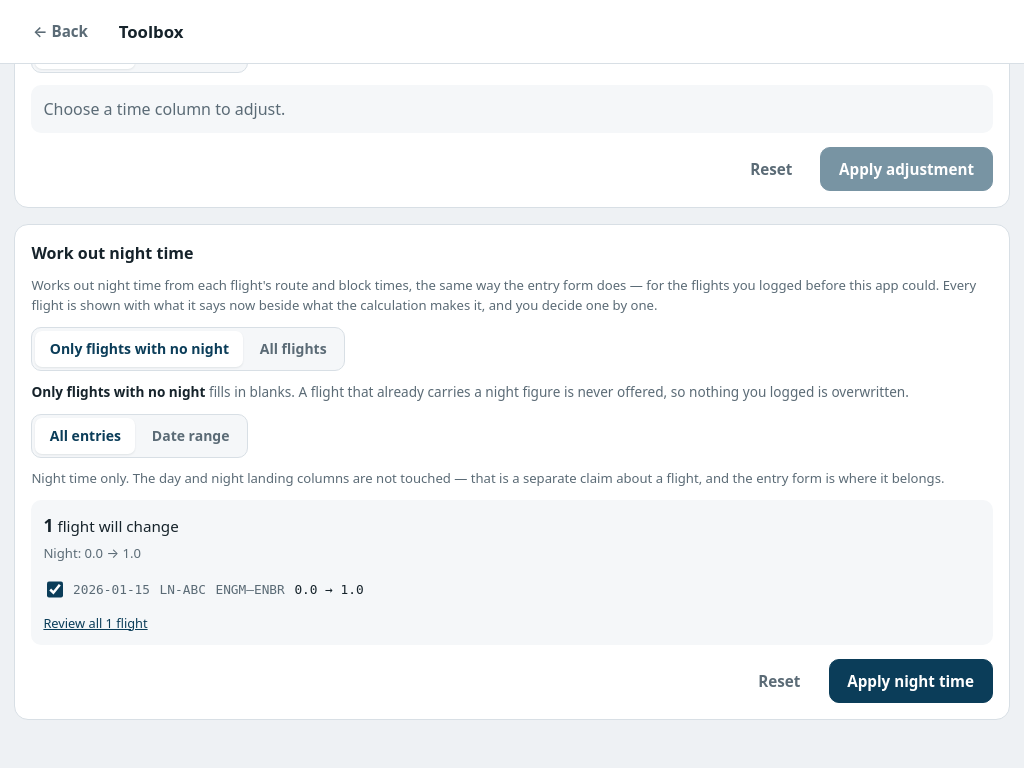
it: keeping what was logged › will not run once everything is unticked
(page scrolled)
Click the checkbox labelled "2026-01-15 LN-ABC ENGM–ENBR 0.0 → 1.0" at (55, 590), box left=47, top=581, right=63, bottom=598
(page scrolled)
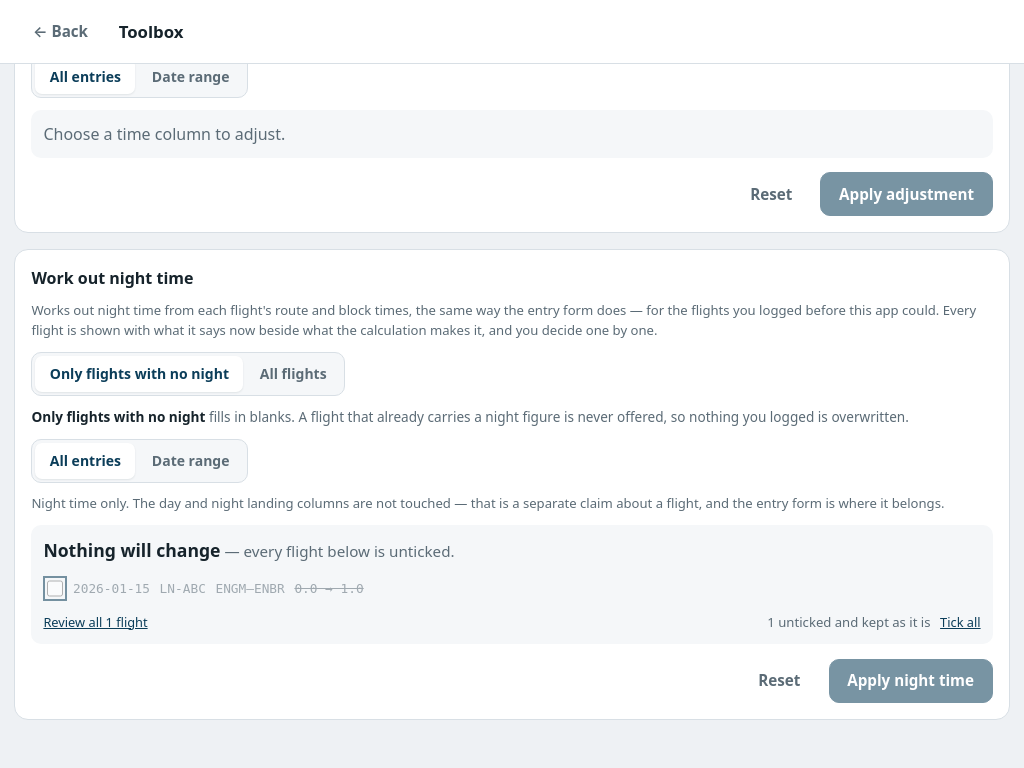
Check: the button "Apply night time" is disabled, box left=829, top=659, right=993, bottom=703
